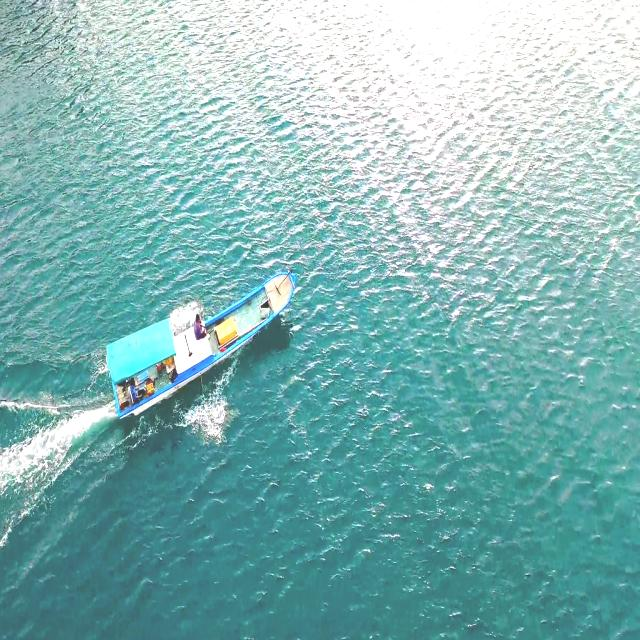ship: (104, 258, 295, 428)
